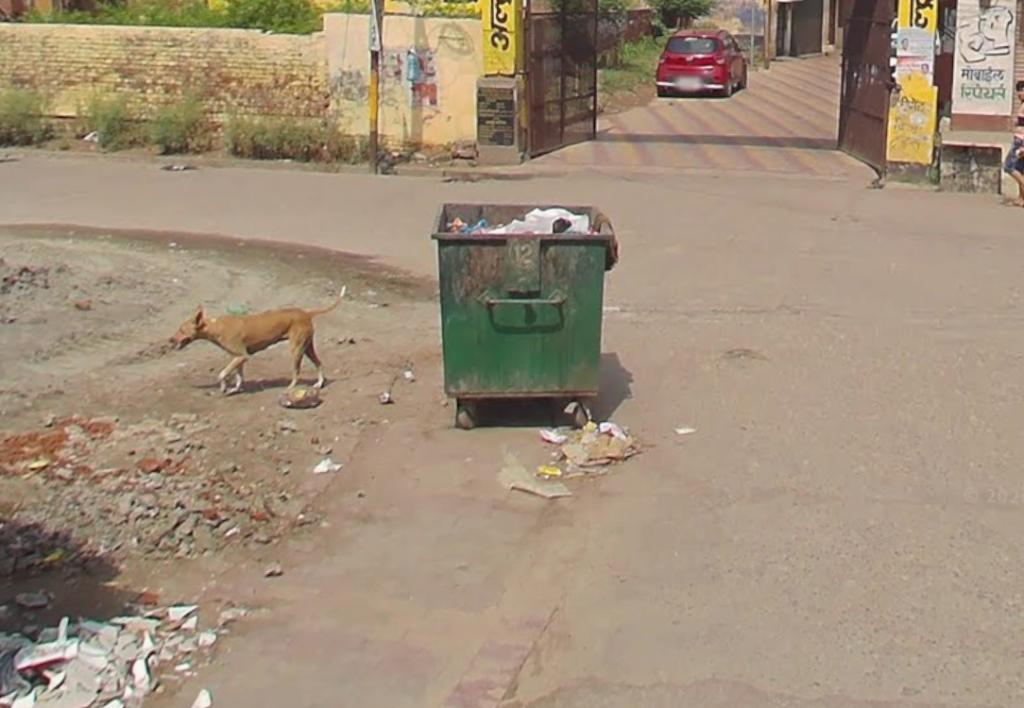dustbin: (424, 198, 618, 436)
